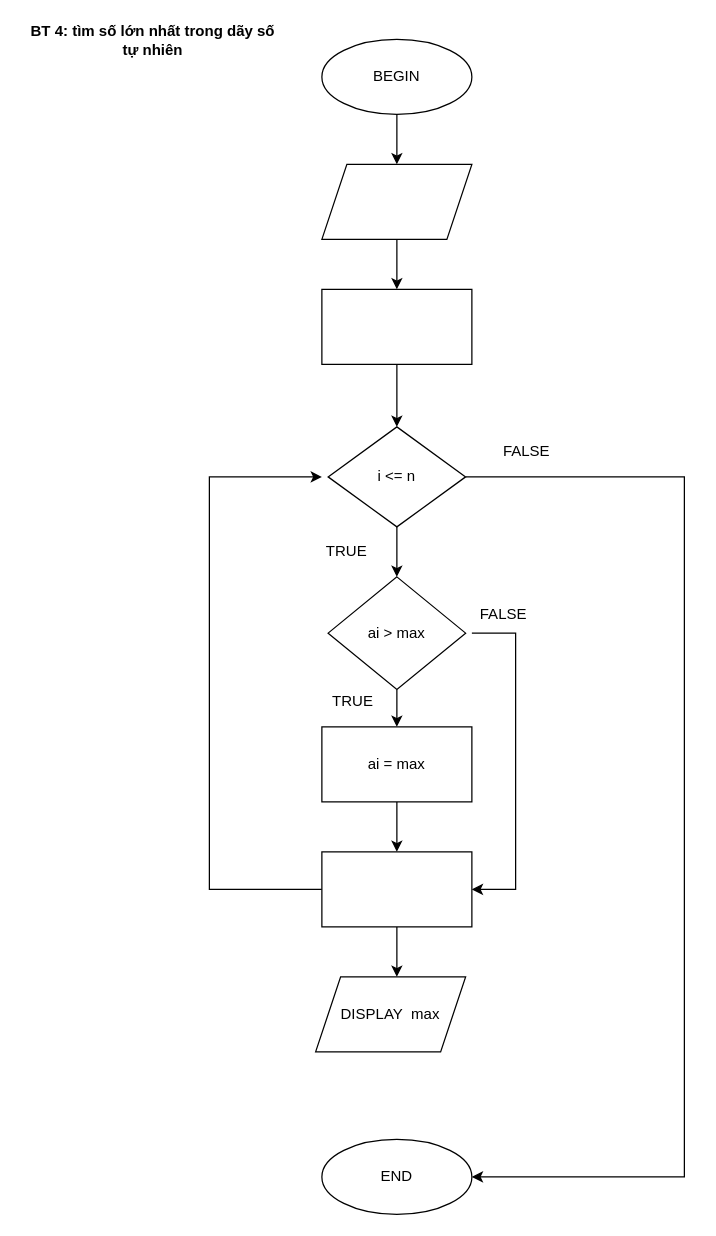
This 716x1236 diagram has some shape labels left out. Here are the shapes that lost their labels. From the top down, the centre of each, then its label:
At [396,201]: "INPUT n, a1, a2, a3, ...an".
At [396,326]: "max = a1 i = 2".
At [396,889]: "i = i +1".
